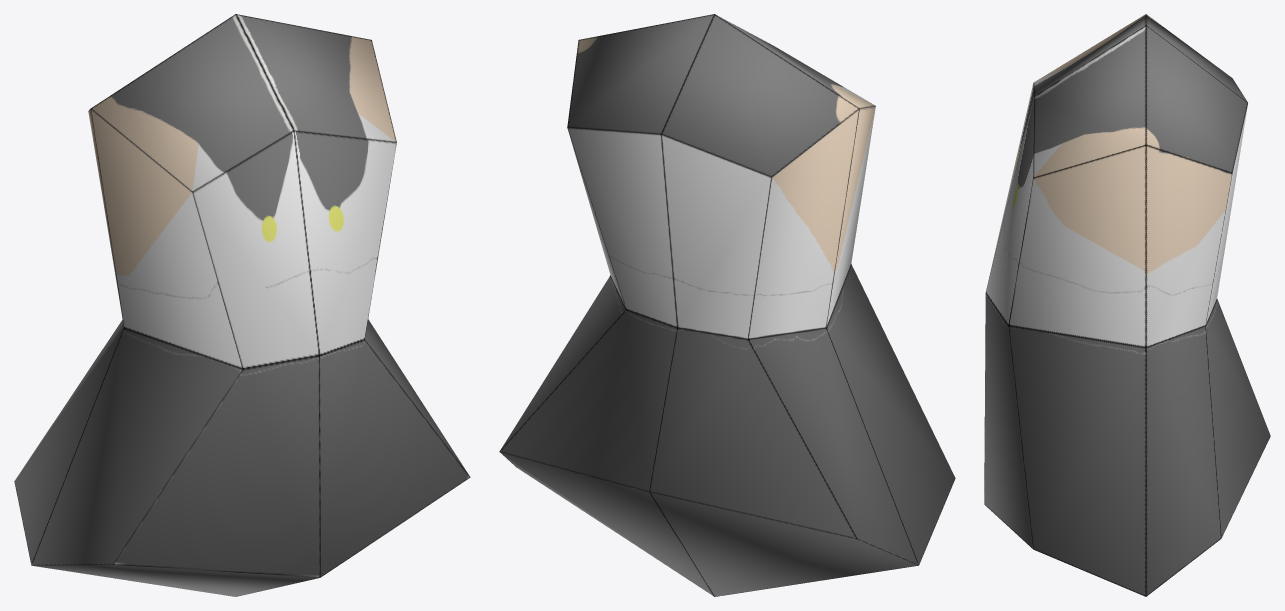
Rendered from player_Body.obj.
The picture shows the model from 3 angles, left to right: view 1: azimuth 30°, elevation 25°; view 2: azimuth 150°, elevation 25°; view 3: azimuth 270°, elevation 25°; orthographic projection. The views are drawn at different scales.
Parts seen in each view (by area): view 1: 体; view 2: 体; view 3: 体.
Boxes of the visible parts, left/top/right/bottom form: 体: left=14, top=14, right=470, bottom=596; 体: left=499, top=14, right=955, bottom=596; 体: left=984, top=14, right=1270, bottom=596.
Bounding box in the file's own units: 0.6059 × 0.8383 × 0.391.
1 material, 1 textured.
